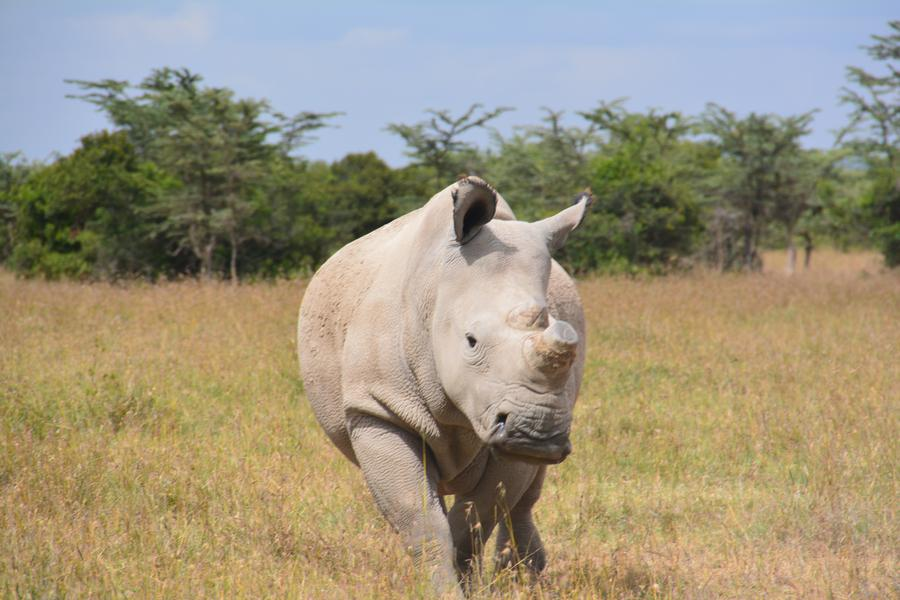rhino: (288, 171, 589, 541)
